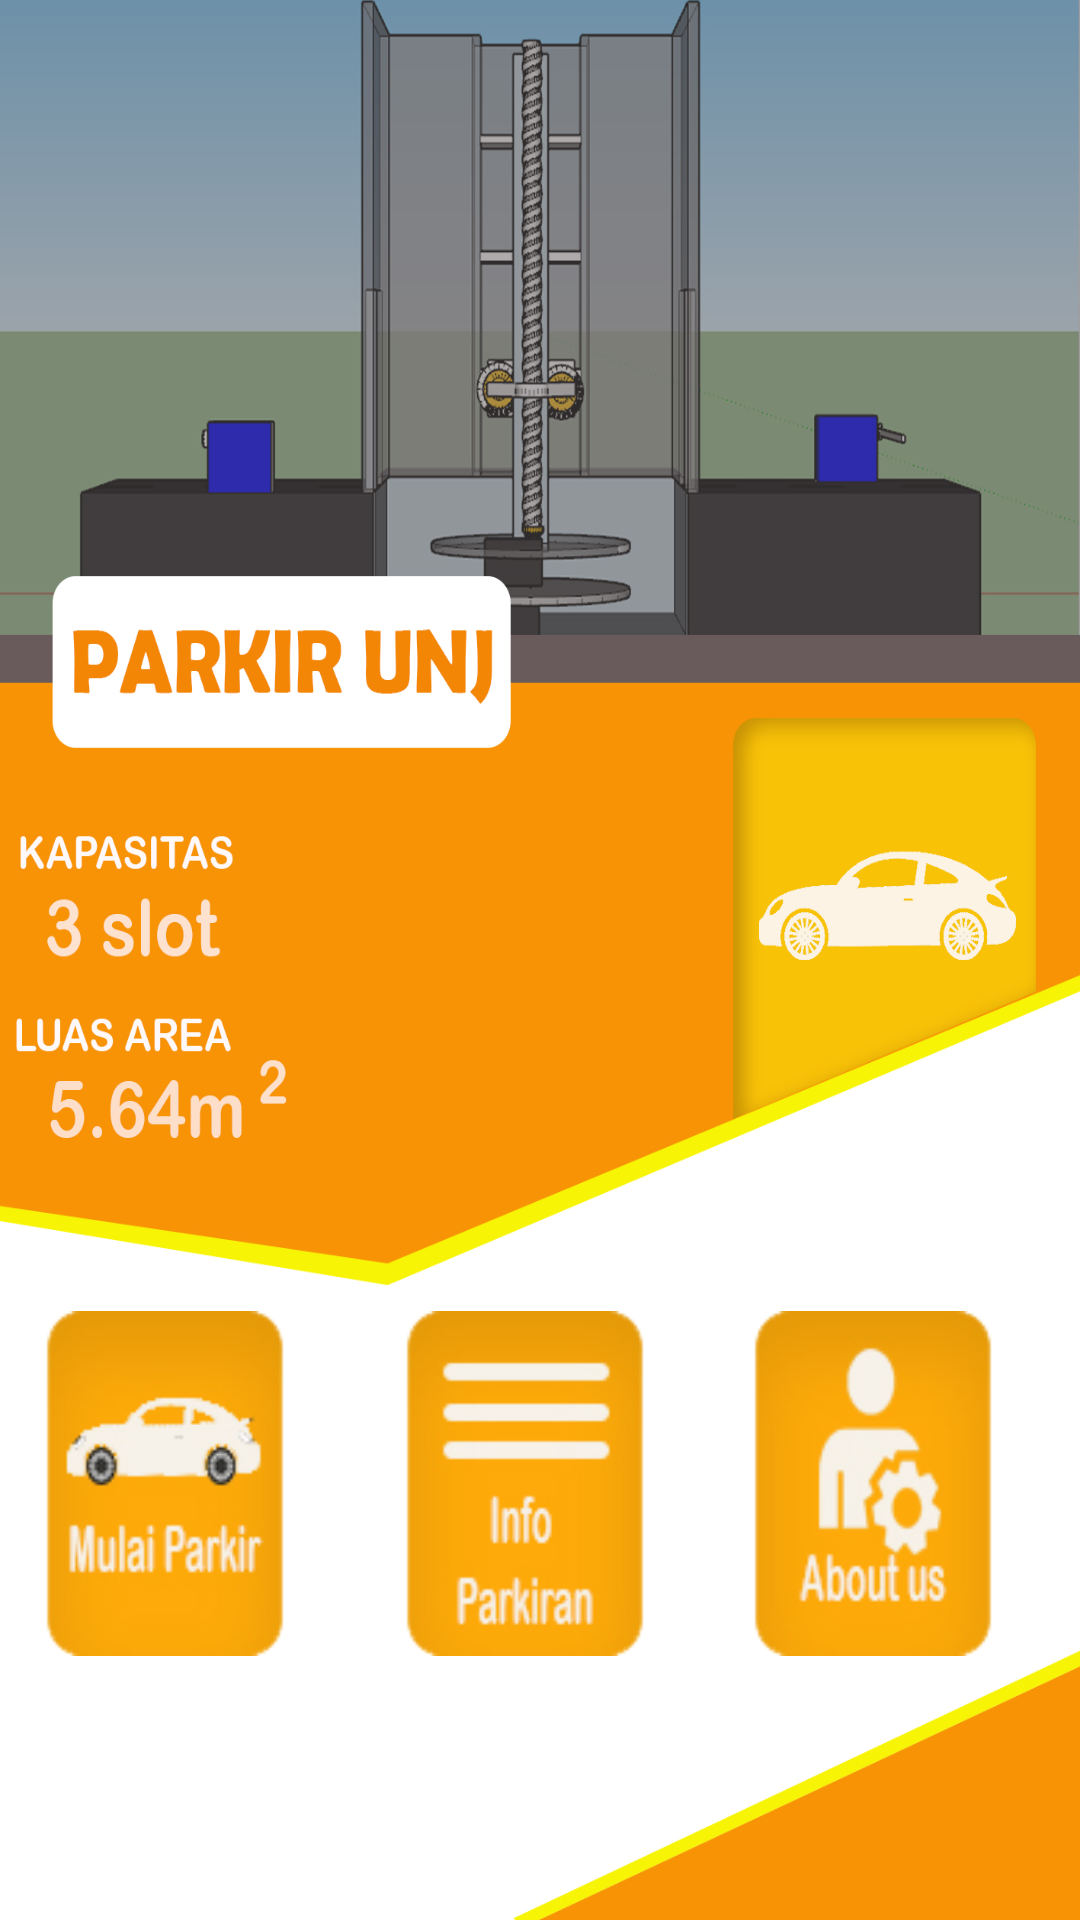

Screen size 1080x1920. Icon name, then its center in pixels as (x=x, y=y):
admin: (x=873, y=1483)
